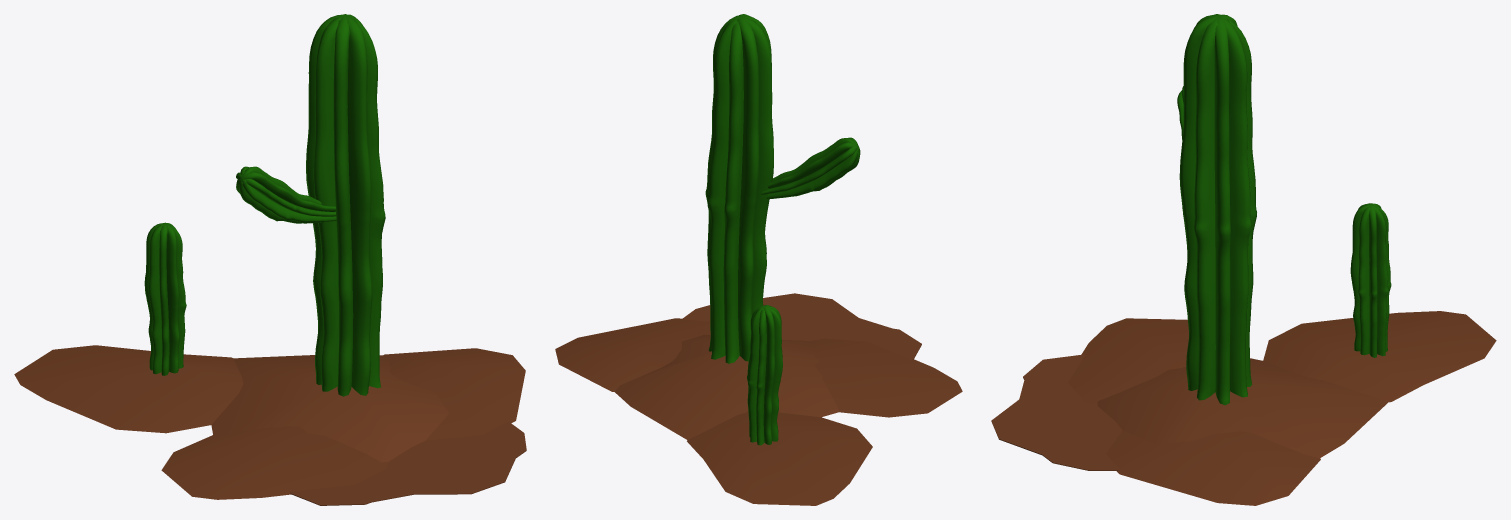
The model's file is modelDraco.gltf.
The picture shows the model from 3 angles, left to right: view 1: azimuth 30°, elevation 25°; view 2: azimuth 150°, elevation 25°; view 3: azimuth 270°, elevation 25°; orthographic projection. The views are drawn at different scales.
Visible parts, largest first — view 1: node-0; view 2: node-0; view 3: node-0.
Part boxes in pixels (x1=…): node-0: x1=14, y1=14, x2=526, y2=505; node-0: x1=555, y1=14, x2=962, y2=505; node-0: x1=991, y1=14, x2=1496, y2=505.
Bounding box in the file's own units: 122 × 116 × 134.
